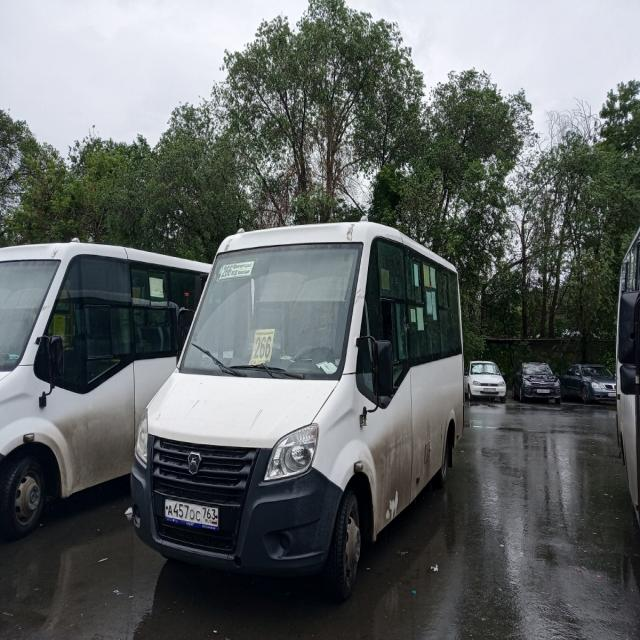number-of-bus: (255, 337, 273, 361), (221, 264, 235, 280)
